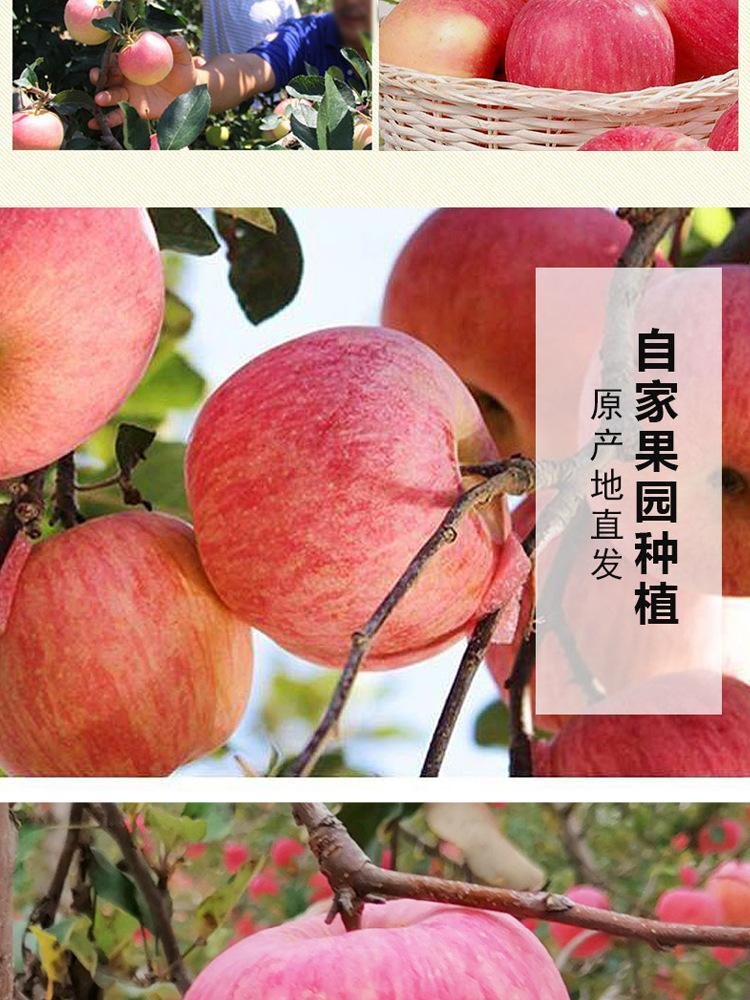apple: (185, 322, 533, 668), (1, 501, 254, 775), (383, 210, 631, 469), (1, 208, 164, 480), (183, 899, 571, 1000), (504, 1, 681, 95), (381, 1, 514, 83), (115, 31, 173, 86), (12, 104, 62, 149)
